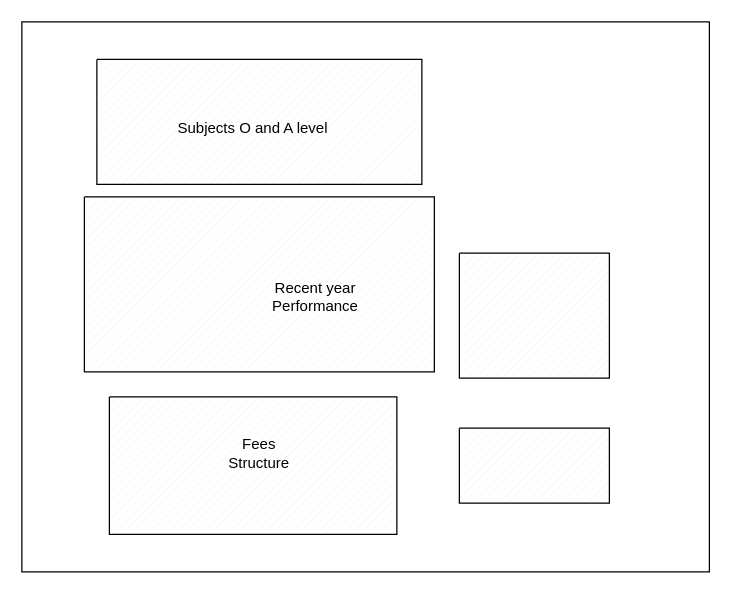
This 731x594 diagram has some shape labels left out. Each missing label, with the centre of its shape:
"Computer lab" goes at pixel 533 465.
"Library" goes at pixel 533 315.
